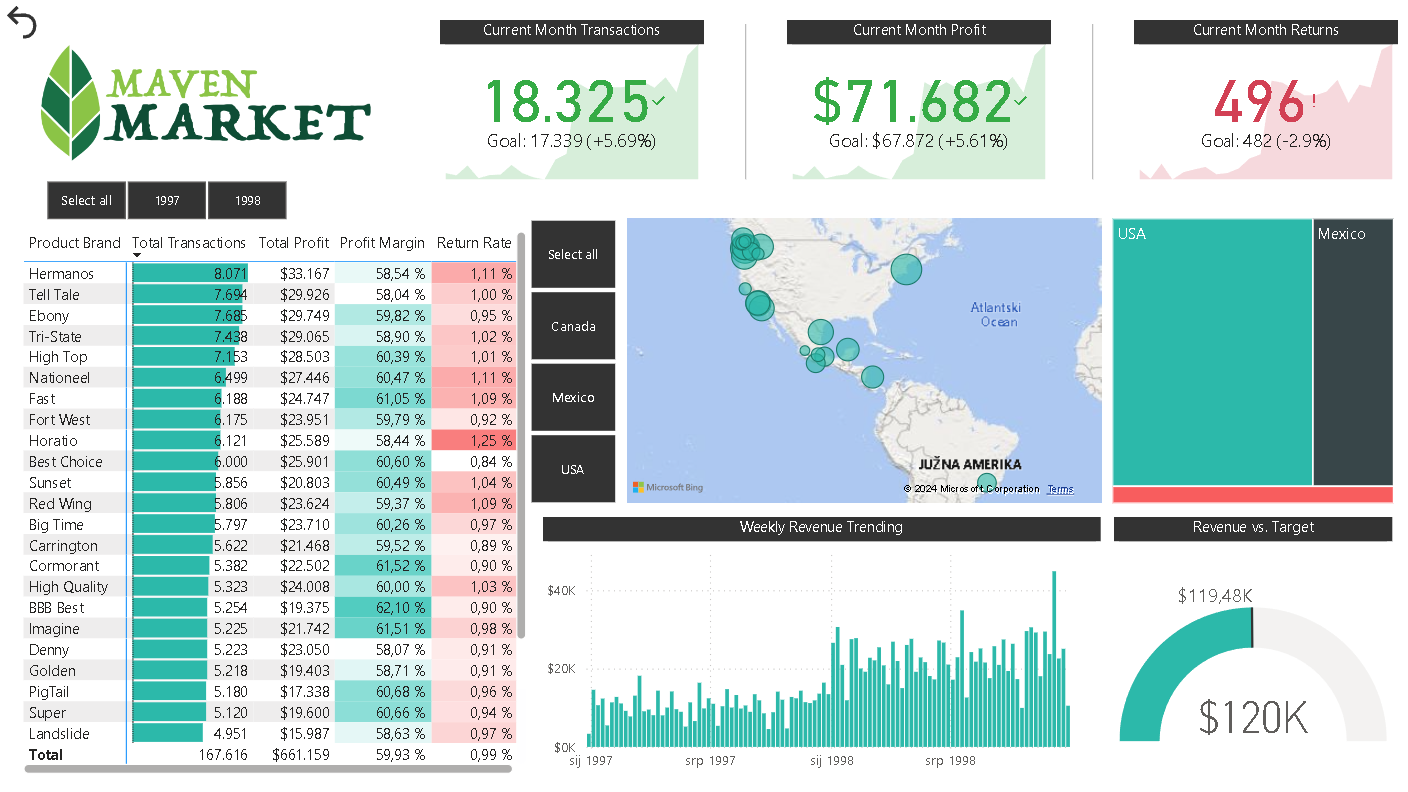

This screenshot's page, from the dashboard's own definition file:
{"tool":"powerbi","page":{"name":"Topline Performance","canvas":[1280,720],"ordinal":0},"visuals":[{"type":"image","box":[7.3,28.2,357.3,130],"z":0},{"type":"pivotTable","fields":{"Rows":["Products.product_brand"],"Values":["Transaction_Data.Total Transactions","Transaction_Data.Total Profit","Transaction_Data.Profit Margin","Return_Data.Return Rate"]},"box":[16,205.7,467.3,502.8],"z":1000},{"type":"kpi","title":"Current Month Transactions","fields":{"Indicator":["Transaction_Data.Total Transactions"],"TrendLine":["Calendar.Start of Month"],"Goal":["Transaction_Data.Last Month Transactions"]},"box":[400,17.8,240,150],"z":2000},{"type":"kpi","title":"Current Month Profit","fields":{"TrendLine":["Calendar.Start of Month"],"Indicator":["Transaction_Data.Total Profit"],"Goal":["Transaction_Data.Last Month Profit"]},"box":[715.6,17.8,240,150],"z":3000},{"type":"kpi","title":"Current Month Returns","fields":{"TrendLine":["Calendar.Start of Month"],"Indicator":["Return_Data.Total Returns"],"Goal":["Return_Data.Last Month Returns"]},"box":[1031.1,17.8,240,150],"z":4000},{"type":"basicShape","box":[644.4,12.2,66.7,161.1],"z":5000},{"type":"basicShape","box":[960,12.2,66.7,161.1],"z":6000},{"type":"map","fields":{"Category":["Stores.store_city"],"Size":["Transaction_Data.Total Transactions"]},"box":[565,194,441.1,268.9],"z":7000},{"type":"slicer","fields":{"Values":["Stores.store_country"]},"box":[457.2,194,125.6,270],"z":8000},{"type":"treemap","fields":{"Group":["Stores.store_country","Stores.store_state","Stores.store_city"],"Values":["Transaction_Data.Total Transactions"]},"box":[1006.1,194,265.6,268.9],"z":9000},{"type":"columnChart","title":"Weekly Revenue Trending","fields":{"Category":["Calendar.Start of Week"],"Y":["Transaction_Data.Total Revenue"]},"box":[494,470,507,238],"z":10000},{"type":"slicer","fields":{"Values":["Calendar.Year"]},"box":[16.8,157.8,266.9,47.9],"z":11000},{"type":"gauge","title":"Revenue vs. Target","fields":{"Y":["Transaction_Data.Total Revenue"],"TargetValue":["Transaction_Data.Revenue Target"]},"box":[1013,470,253,238],"z":12000},{"type":"actionButton","box":[0,0,40,40],"z":12001}]}

Visuals, with their boxes in screenshot pixels (x1, y1, x2, y2), scaled from the page's 1280x720 canvas onto the 1408x792 screenshot:
image: [8,31,401,174]
pivotTable - Products.product_brand x Transaction_Data.Total Transactions: [18,226,532,779]
"Current Month Transactions" kpi: [440,20,704,185]
"Current Month Profit" kpi: [787,20,1051,185]
"Current Month Returns" kpi: [1134,20,1398,185]
basicShape: [709,13,782,191]
basicShape: [1056,13,1129,191]
map - Stores.store_city x Transaction_Data.Total Transactions: [622,213,1107,509]
slicer - Stores.store_country: [503,213,641,510]
treemap - Stores.store_country x Stores.store_state: [1107,213,1399,509]
"Weekly Revenue Trending" columnChart: [543,517,1101,779]
slicer - Calendar.Year: [18,174,312,226]
"Revenue vs. Target" gauge: [1114,517,1393,779]
actionButton: [0,0,44,44]
